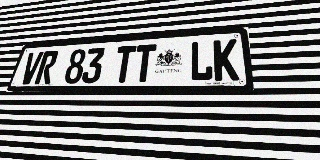3: (80, 47, 105, 83)
8: (63, 49, 88, 84)
K: (213, 39, 239, 81)
L: (189, 40, 213, 81)
R: (34, 50, 59, 84)
T: (112, 45, 137, 83), (132, 44, 157, 82)
V: (18, 52, 44, 85)
